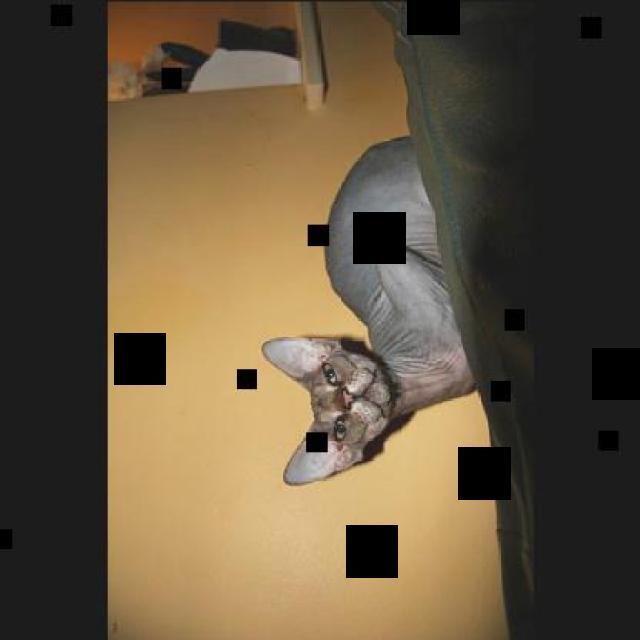unauthorized: (260, 134, 478, 486), (260, 332, 400, 486)
